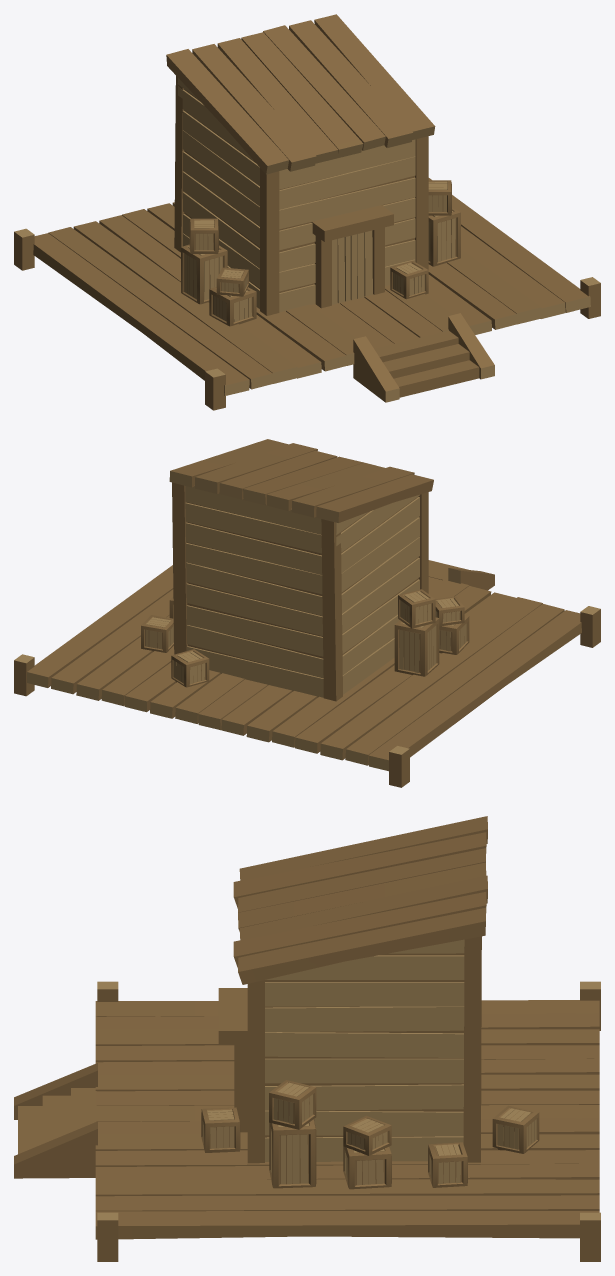
Rendered from storage_firstage_level1.glb.
The picture shows the model from 3 angles, top to bottom: view 1: azimuth 30°, elevation 25°; view 2: azimuth 150°, elevation 25°; view 3: azimuth 270°, elevation 25°; orthographic projection. The views are drawn at different scales.
Parts seen in each view (by area): view 1: Storage_FirstAge_Level1; view 2: Storage_FirstAge_Level1; view 3: Storage_FirstAge_Level1.
Part boxes in pixels (x1,y1,x2,y2): Storage_FirstAge_Level1: (14,14,600,410); Storage_FirstAge_Level1: (14,439,600,787); Storage_FirstAge_Level1: (14,816,600,1261).
Size of the model in its own units: 1.41 by 0.7613 by 1.47.
